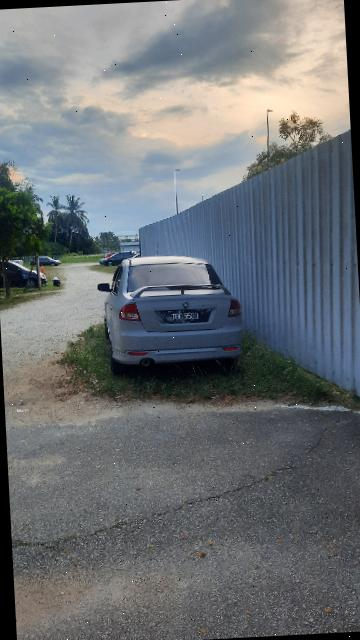License_Plate: (154, 303, 214, 328)
car: (95, 249, 250, 385)
